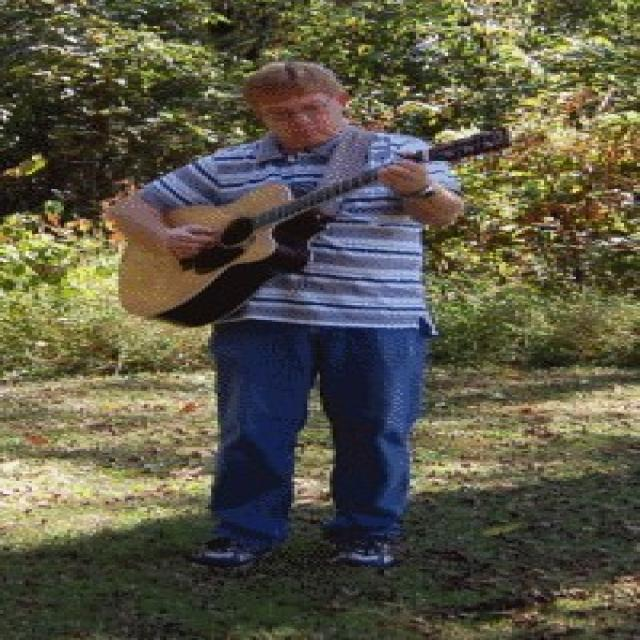guitar: (117, 128, 512, 328)
